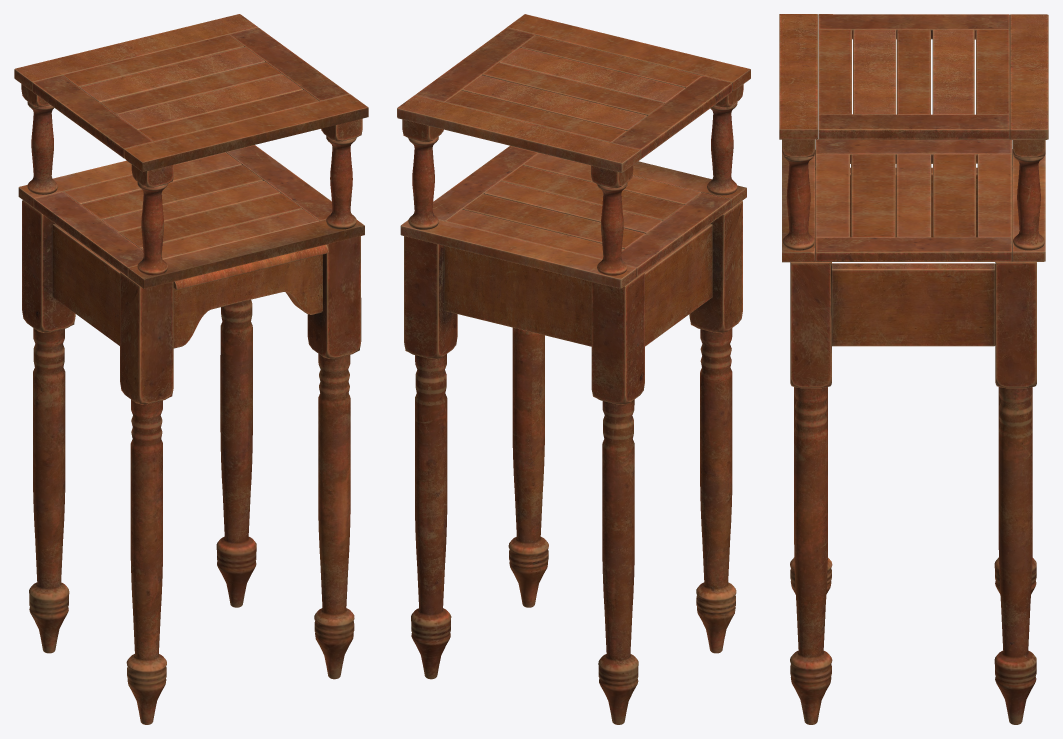
Rendered from Bedside Table 1.fbx.
3 views of the same model, side by side, from view 1: azimuth 30°, elevation 25°; view 2: azimuth 150°, elevation 25°; view 3: azimuth 270°, elevation 25° (orthographic). The views are drawn at different scales.
Visible parts, largest first — view 1: Tiered Wooden Bedside Washstand.001; view 2: Tiered Wooden Bedside Washstand.001; view 3: Tiered Wooden Bedside Washstand.001.
Boxes of the visible parts, x1,y1,x2,y2 form: Tiered Wooden Bedside Washstand.001: (14,14,368,724); Tiered Wooden Bedside Washstand.001: (397,14,750,724); Tiered Wooden Bedside Washstand.001: (779,14,1048,724).
Size of the model in its own units: 36.71 by 89.41 by 36.18.
1 material, 1 textured.
